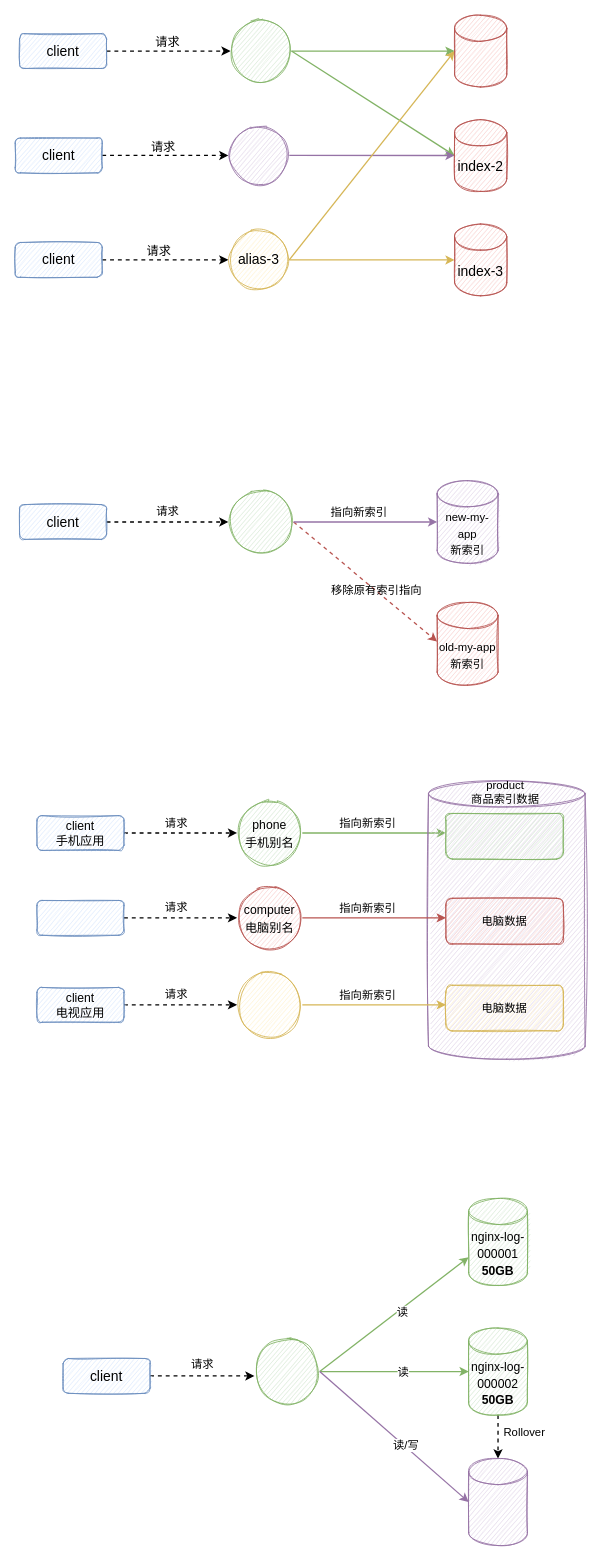
Some shapes in this 600 by 1561 pixel diagram are drawn without their labels. The shapes that lost their labels are listed below. From the top down, each one's centre as x and y in pixels, then its label:
the point at 260,51: alias-1
the point at 480,50: index-1
the point at 258,155: alias-2
the point at 261,522: my-app 索引别名
the point at 504,836: 手机数据
the point at 80,917: client 电脑应用
the point at 269,1004: television 电脑别名
the point at 287,1371: nginx-log 索引别名
the point at 497,1502: nginx-log-000003 0GB
